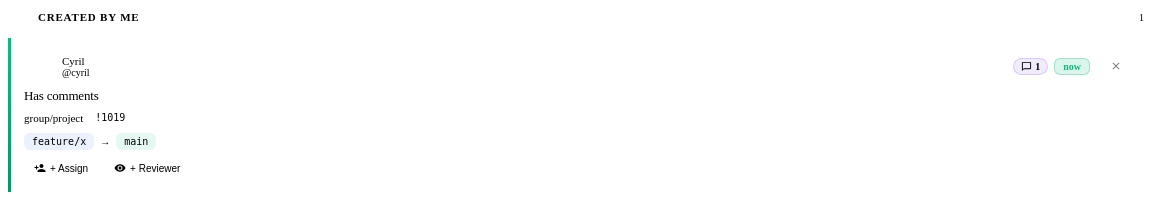
Scenario: MergeRequestsTab › clicking an open notes badge a second time closes the panel without re-fetching
Expected: the text "Has comments" is shown, [24,88,98,103]
Click the element titled "Click to view comments".
click(1031, 66)  # box [1013,58,1048,74]
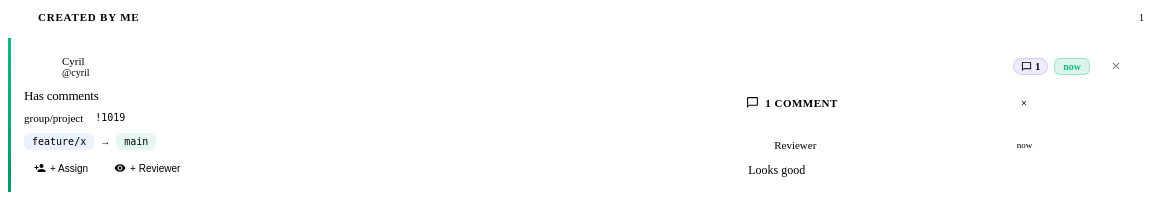
Expected: the text "Looks good" is shown, [748,162,805,176]
Click the element titled "Click to view comments".
click(1031, 66)  # box [1013,58,1048,74]
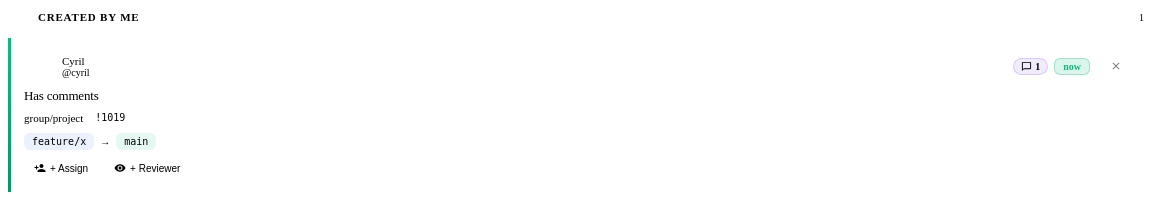
Expected: the text "Looks good" is gone
